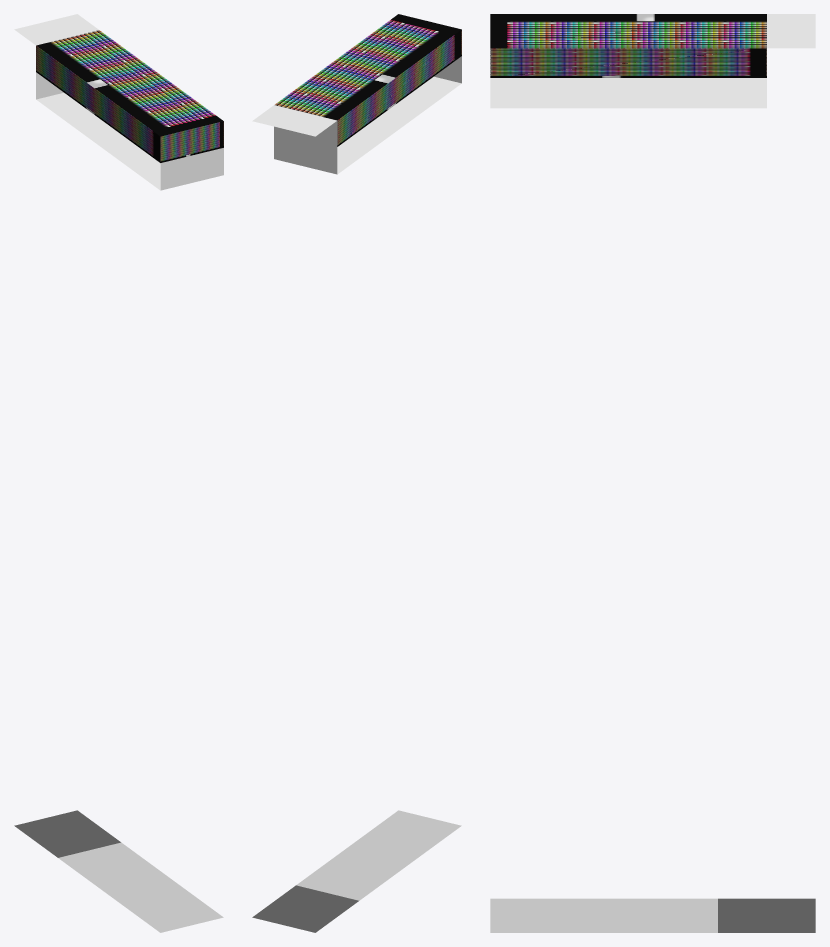
Rendered from ground_line_1_q.fbx.
The picture shows the model from 3 angles, left to right: view 1: azimuth 30°, elevation 25°; view 2: azimuth 150°, elevation 25°; view 3: azimuth 270°, elevation 25°; orthographic projection. The views are drawn at different scales.
Parts seen in each view (by area): view 1: shadowsOnly, ground_line_1_q, ceiling_line_1_q; view 2: shadowsOnly, ground_line_1_q, ceiling_line_1_q; view 3: shadowsOnly, ground_line_1_q, ceiling_line_1_q.
Boxes of the visible parts, bbox=[...] form: shadowsOnly: bbox=[36, 30, 223, 162]; ground_line_1_q: bbox=[14, 810, 223, 932]; ceiling_line_1_q: bbox=[14, 14, 223, 190]; shadowsOnly: bbox=[274, 14, 461, 146]; ground_line_1_q: bbox=[252, 810, 461, 932]; ceiling_line_1_q: bbox=[252, 56, 461, 174]; shadowsOnly: bbox=[490, 14, 766, 77]; ground_line_1_q: bbox=[490, 898, 815, 932]; ceiling_line_1_q: bbox=[490, 14, 815, 108].
Size of what is drawn, in the model's own units: 25 by 300 by 100.
